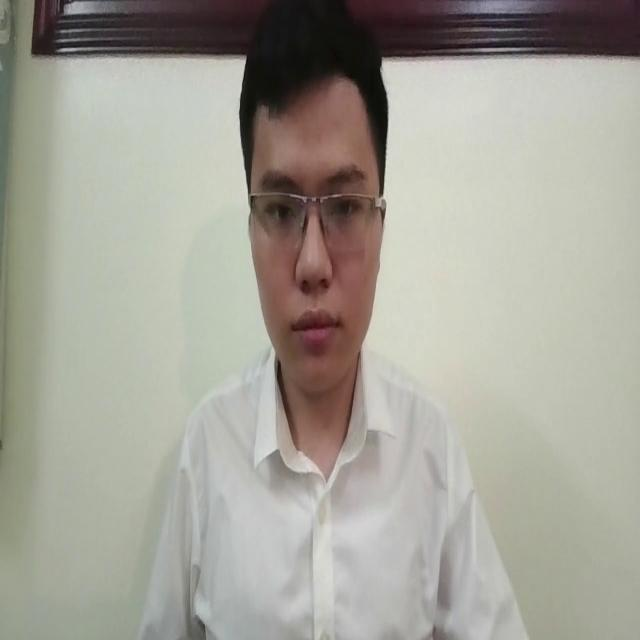student: (138, 0, 527, 640)
